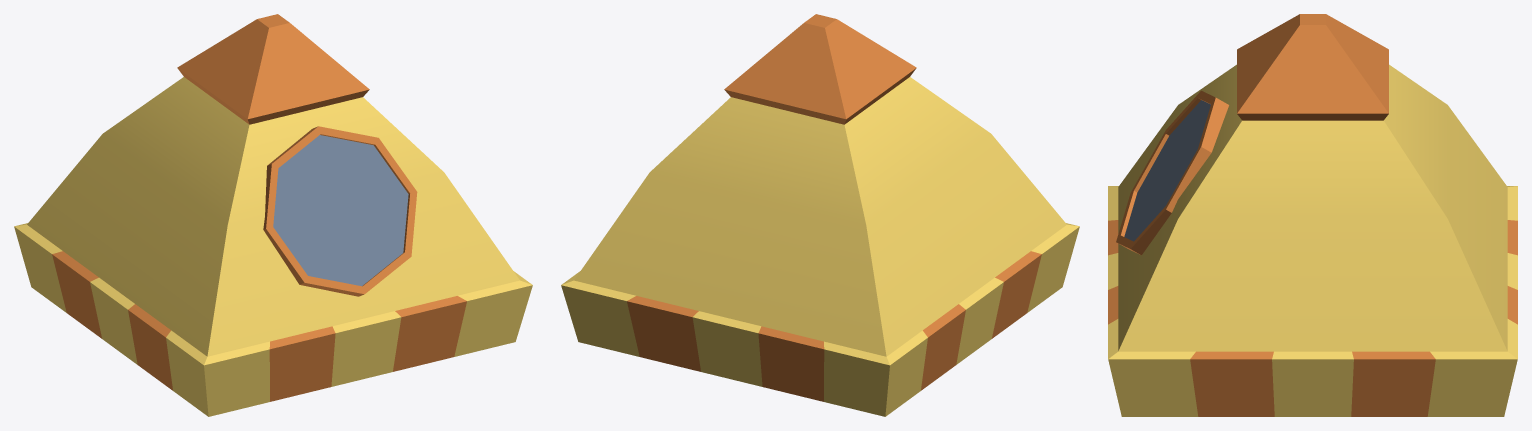
File: CampingTent03.fbx
3 views of the same model, side by side, from view 1: azimuth 30°, elevation 25°; view 2: azimuth 150°, elevation 25°; view 3: azimuth 270°, elevation 25° (orthographic). The views are drawn at different scales.
Parts seen in each view (by area): view 1: Camp_Tent2; view 2: Camp_Tent2; view 3: Camp_Tent2.
Part boxes in pixels (x1,y1,x2,y2): Camp_Tent2: (14, 14, 532, 416); Camp_Tent2: (561, 14, 1079, 416); Camp_Tent2: (1108, 14, 1517, 416).
Size of the model in its own units: 61.9 by 61.9 by 52.8.
